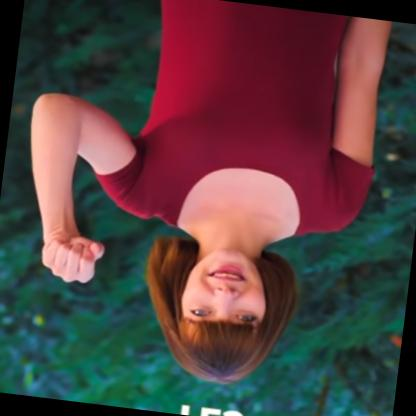yes: (30, 216, 118, 305)
